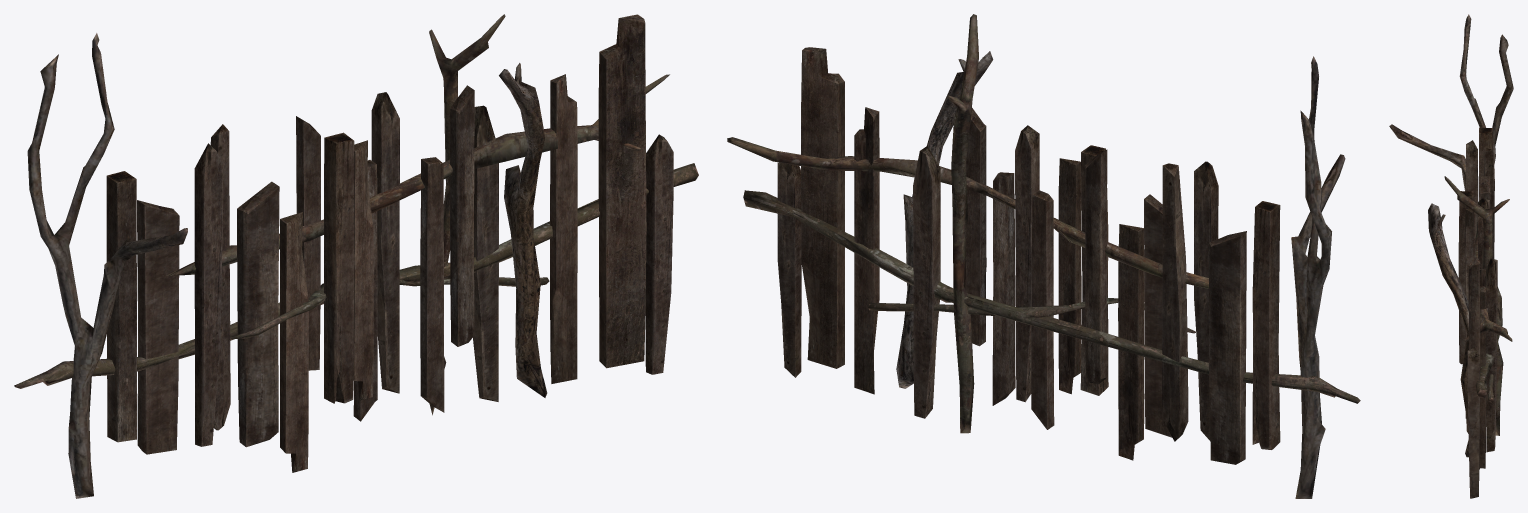
File: P_TowerFence01.FBX
The picture shows the model from 3 angles, left to right: view 1: azimuth 30°, elevation 25°; view 2: azimuth 150°, elevation 25°; view 3: azimuth 270°, elevation 25°; orthographic projection. The views are drawn at different scales.
Visible parts, largest first — view 1: P_TowerFence01; view 2: P_TowerFence01; view 3: P_TowerFence01.
Boxes of the visible parts, x1,y1,x2,y2 form: P_TowerFence01: (14,14,698,498); P_TowerFence01: (727,14,1360,498); P_TowerFence01: (1389,14,1513,498).
Bounding box in the file's own units: 271 × 188 × 67.66.
